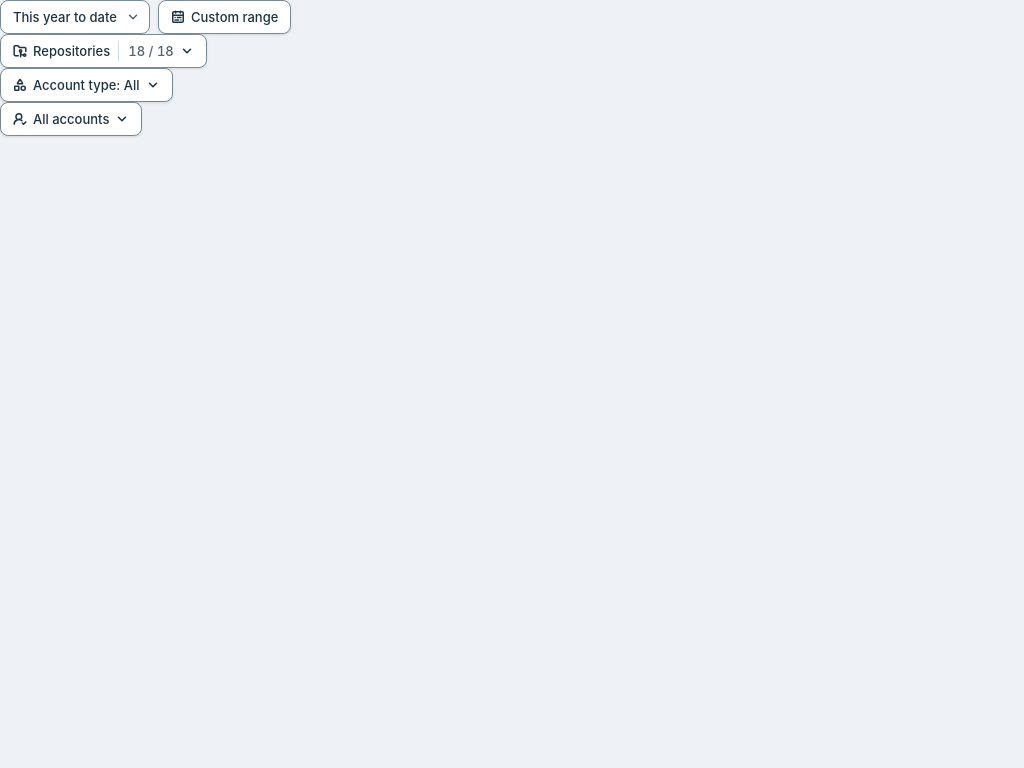
propagates rejected custom dates through the contribution control boundary
Click the button with aria-label "Custom range for Reporting period": (225, 17) [158,0,291,34]
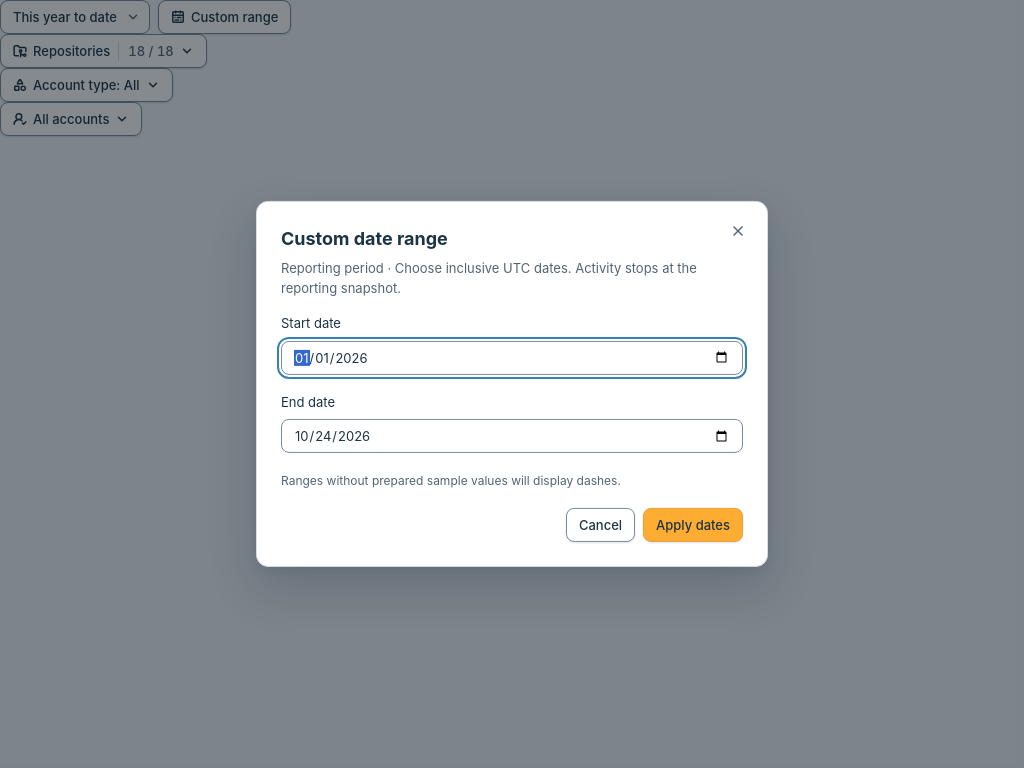
Click the button "Apply dates": (693, 525) [643,508,743,542]
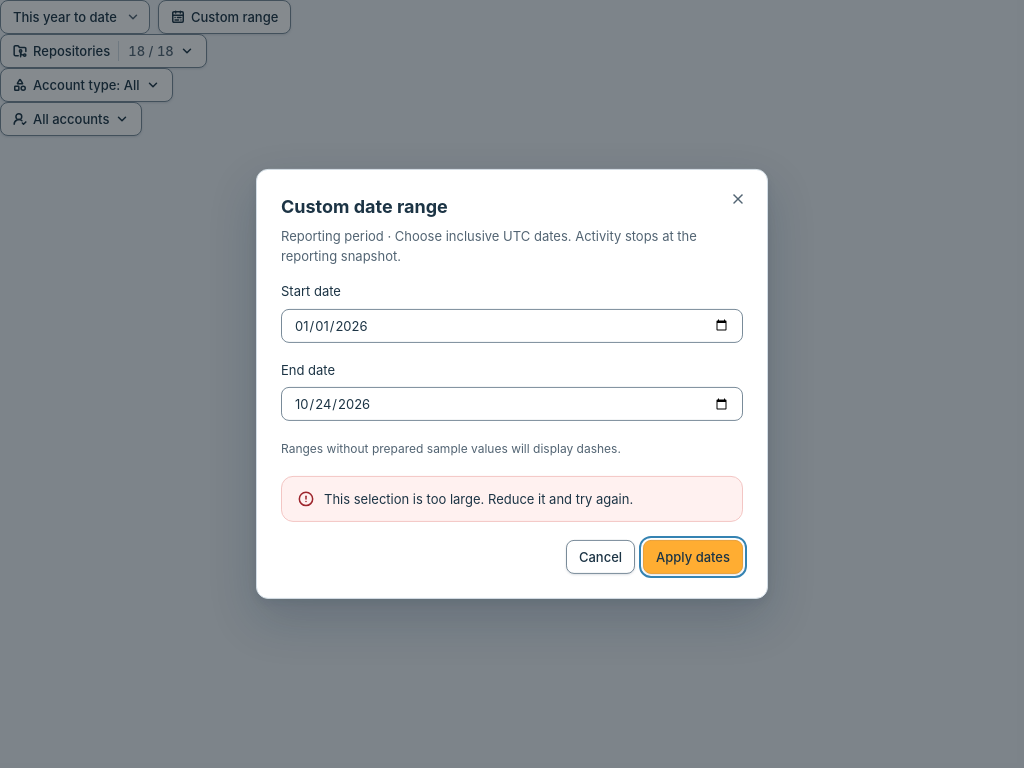
Now the date field labelled "Start date" holds "2026-01-01", box [281,308,743,342]
Now the message reads "This selection is too large. Reduce it and try again.", box [324,491,633,507]
